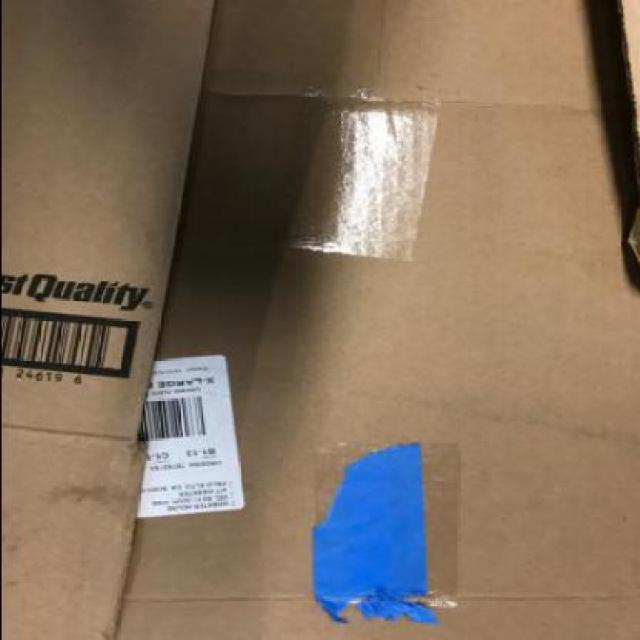CARDBOARD: (1, 1, 638, 638), (1, 1, 214, 638)
